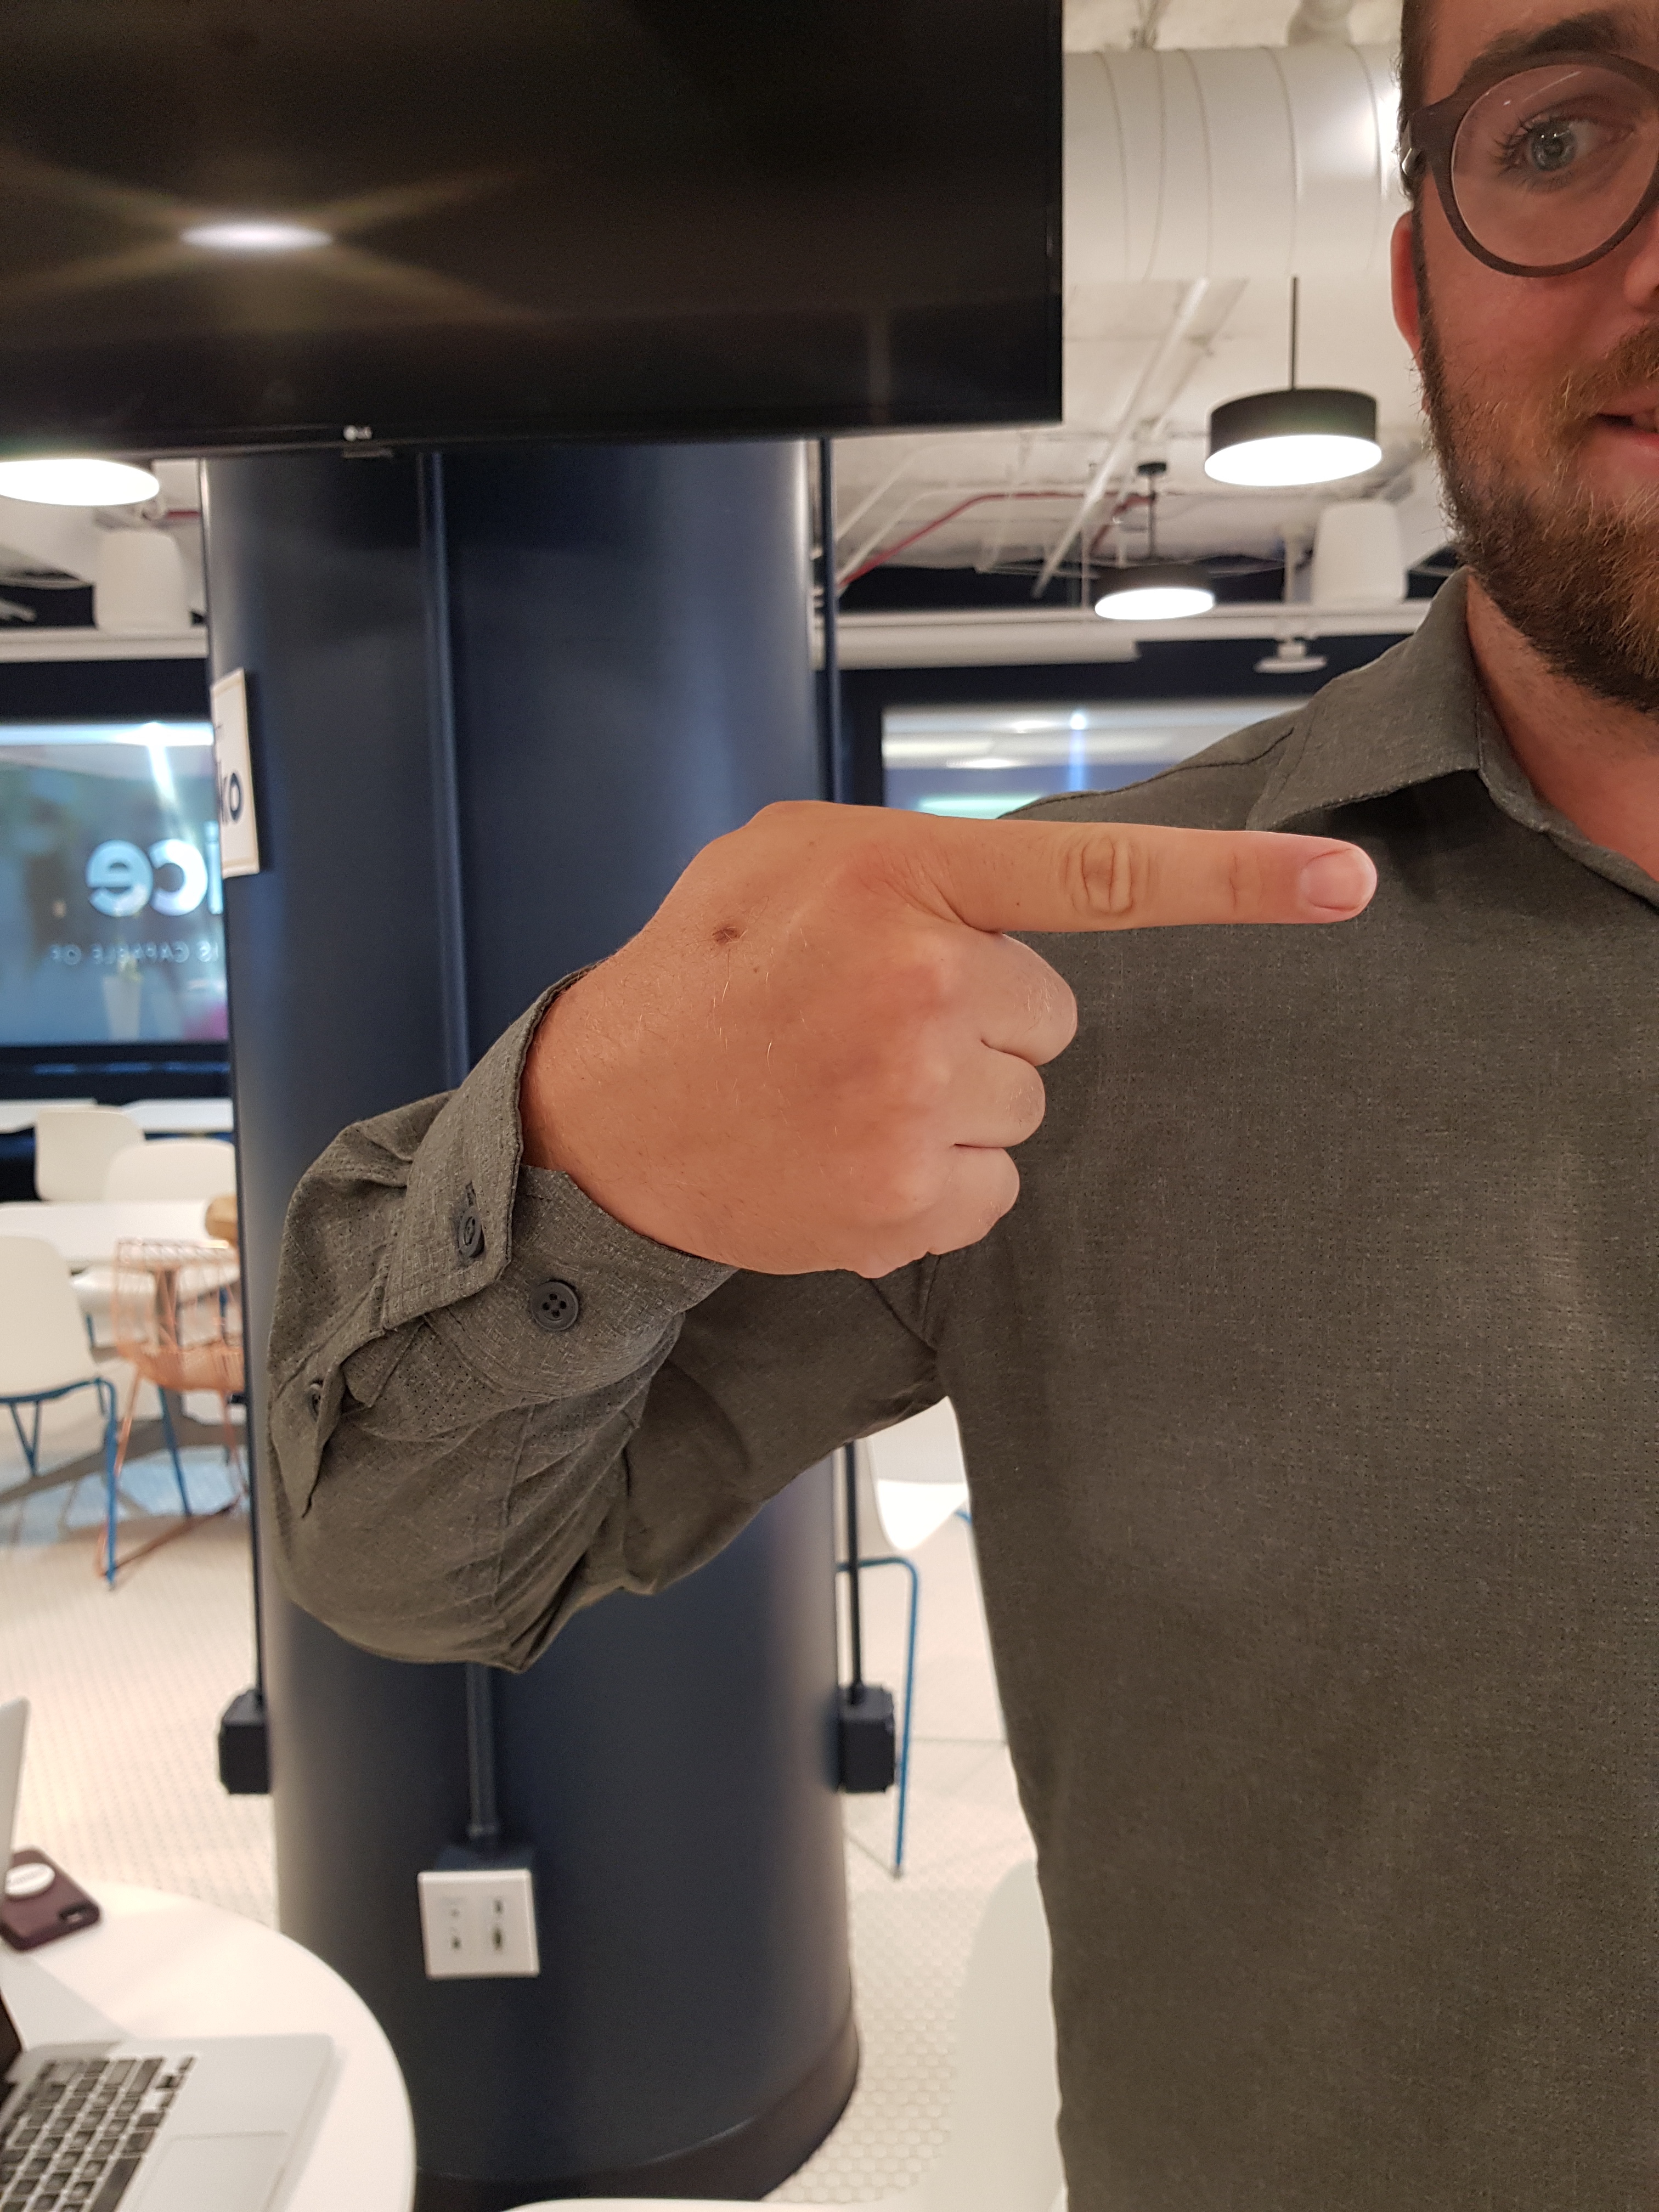g: (458, 752, 1408, 1313)
